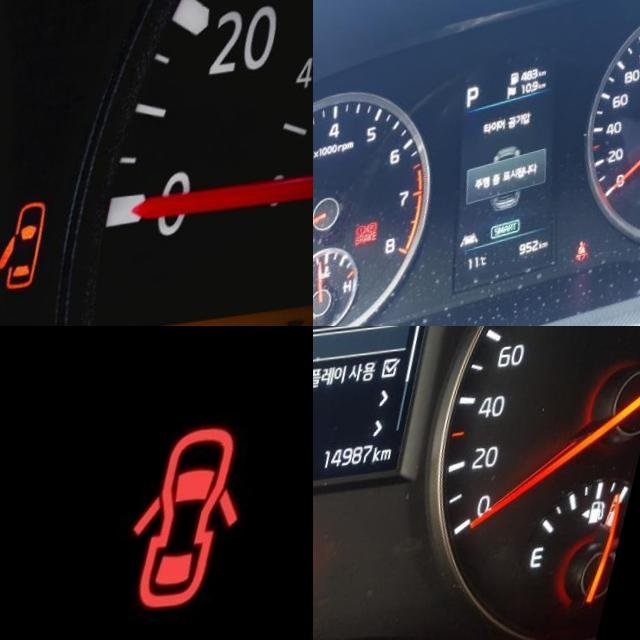LaneCenteringOff: (477, 238, 499, 254)
